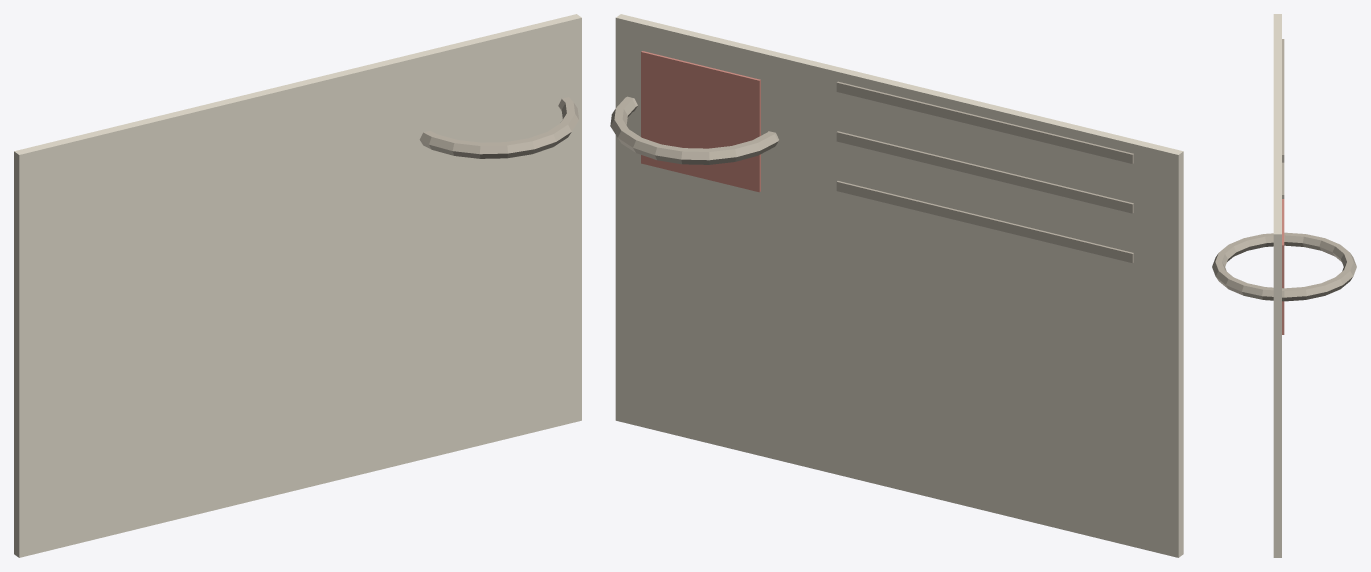
File: item_55_postcard.glb
3 renders of one model, left to right at view 1: azimuth 30°, elevation 25°; view 2: azimuth 150°, elevation 25°; view 3: azimuth 270°, elevation 25°, orthographic. The views are drawn at different scales.
Parts seen in each view (by area): view 1: I55_Card, I55_Postmark; view 2: I55_Card, I55_Stamp, I55_Postmark, I55_Line1, I55_Line2, I55_Line0; view 3: I55_Card, I55_Postmark, I55_Line2, I55_Stamp.
Boxes of the visible parts, left/top/right/bottom form: I55_Card: left=14, top=14, right=581, bottom=557; I55_Postmark: left=419, top=97, right=578, bottom=158; I55_Card: left=615, top=14, right=1183, bottom=557; I55_Stamp: left=641, top=51, right=760, bottom=192; I55_Postmark: left=610, top=96, right=779, bottom=164; I55_Line1: left=836, top=131, right=1133, bottom=213; I55_Line2: left=836, top=81, right=1133, bottom=163; I55_Line0: left=836, top=181, right=1133, bottom=263; I55_Card: left=1273, top=14, right=1281, bottom=557; I55_Postmark: left=1212, top=232, right=1356, bottom=301; I55_Line2: left=1282, top=39, right=1284, bottom=162; I55_Stamp: left=1282, top=199, right=1284, bottom=334.
Size of the model in its own units: 0.095 by 0.065 by 0.0264.
